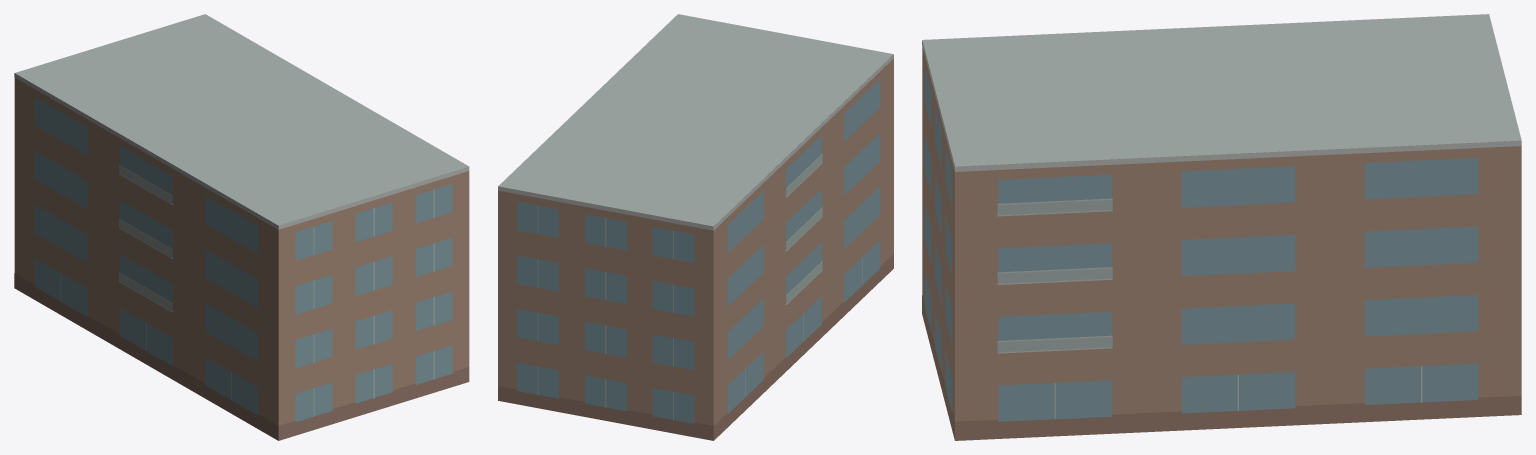
File: survey-upis-32653989.glb
3 views of the same model, side by side, from view 1: azimuth 30°, elevation 25°; view 2: azimuth 150°, elevation 25°; view 3: azimuth 270°, elevation 25° (orthographic). The views are drawn at different scales.
Visible parts, largest first — view 1: survey-upis-32653989.tmp; view 2: survey-upis-32653989.tmp; view 3: survey-upis-32653989.tmp.
Part boxes in pixels (left/top/right/bottom): survey-upis-32653989.tmp: left=14, top=14, right=469, bottom=440; survey-upis-32653989.tmp: left=498, top=14, right=893, bottom=440; survey-upis-32653989.tmp: left=922, top=14, right=1521, bottom=440.
Size of the model in its own units: 14.8 by 12.4 by 24.57.
